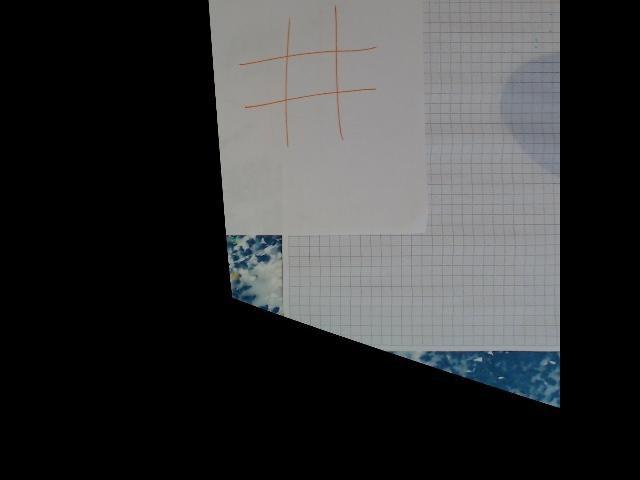grid: (235, 9, 376, 149)
